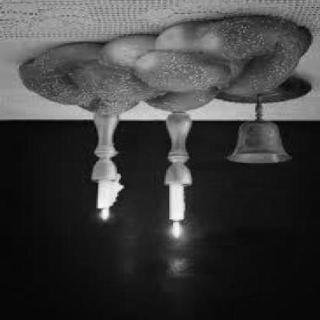Fire: (168, 220, 188, 244)
